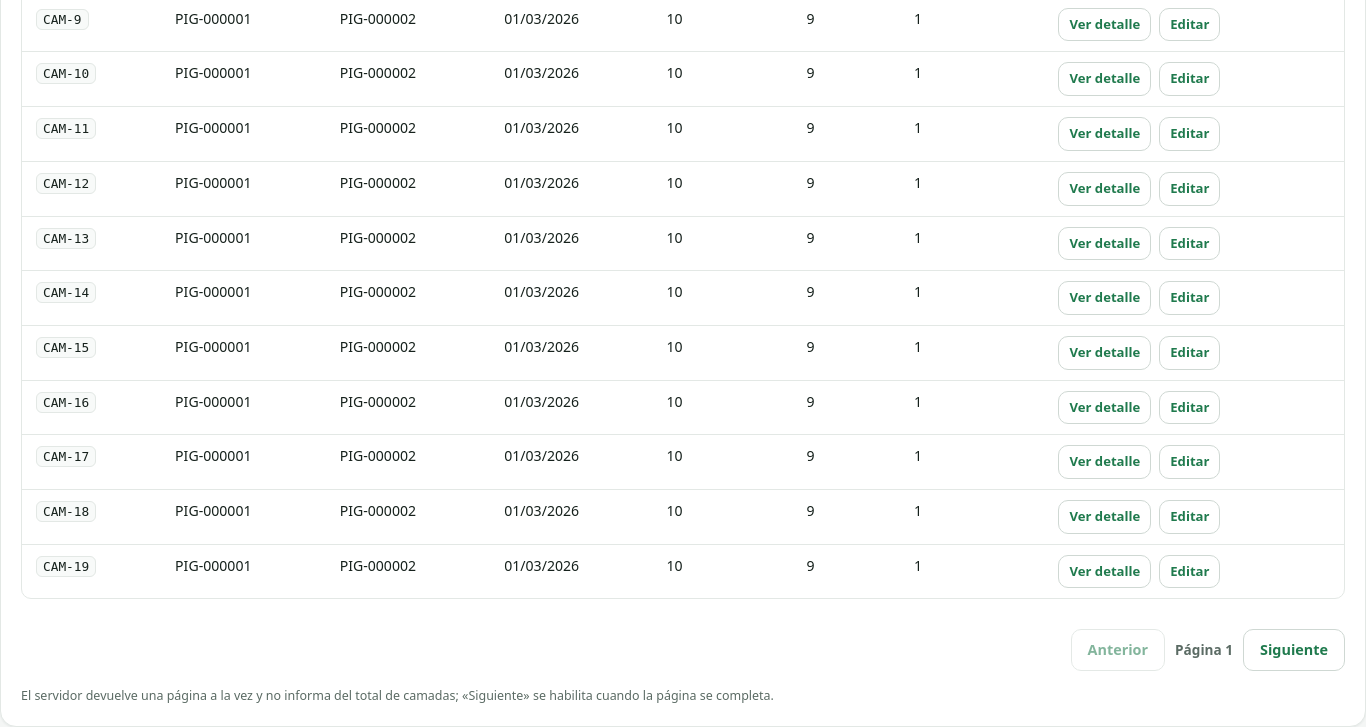
Test: LittersPage: filtros y paginacion › pagina con limit/offset sin inventar el total
(page scrolled)
Check: the text "Página 1" is shown, box top-left (1175, 640), bottom-right (1233, 660)
Click the button "Siguiente": {"x": 1294, "y": 650} top-left (1243, 629), bottom-right (1345, 671)
(page scrolled)
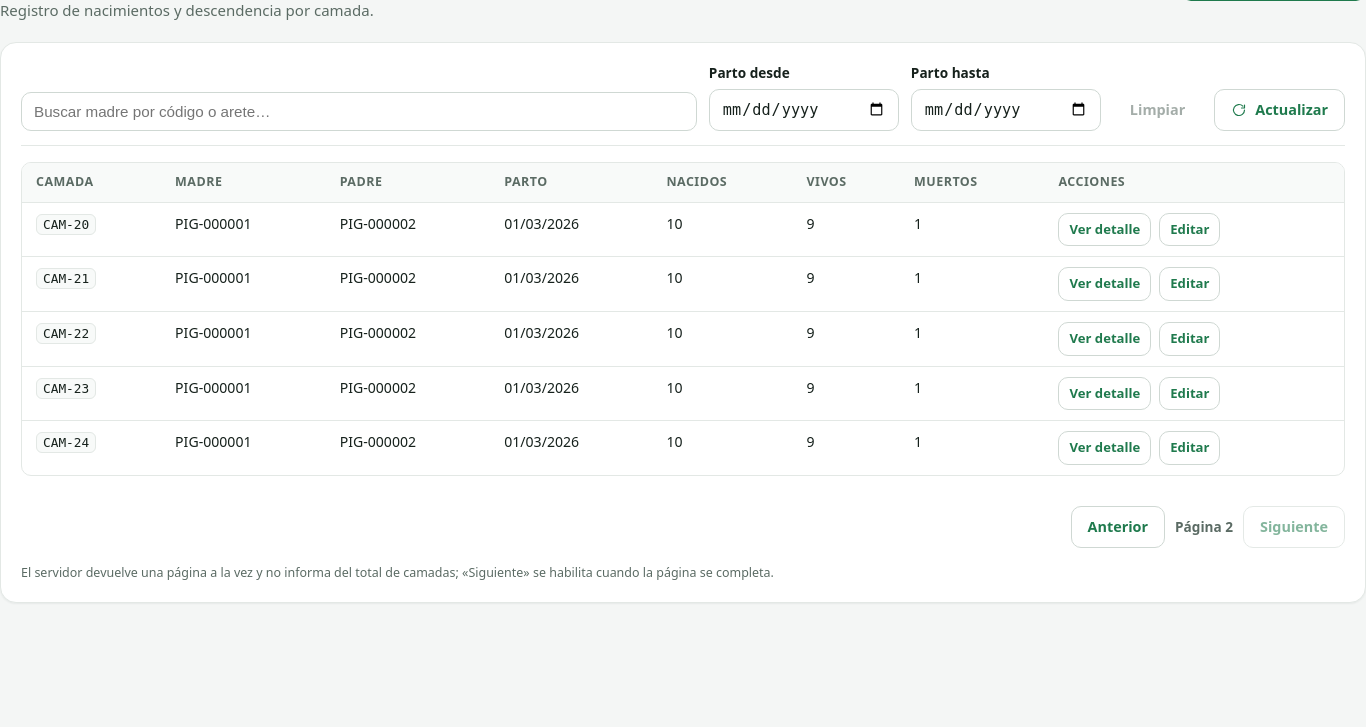
Check: the text "Página 2" is shown, box top-left (1175, 517), bottom-right (1233, 537)
